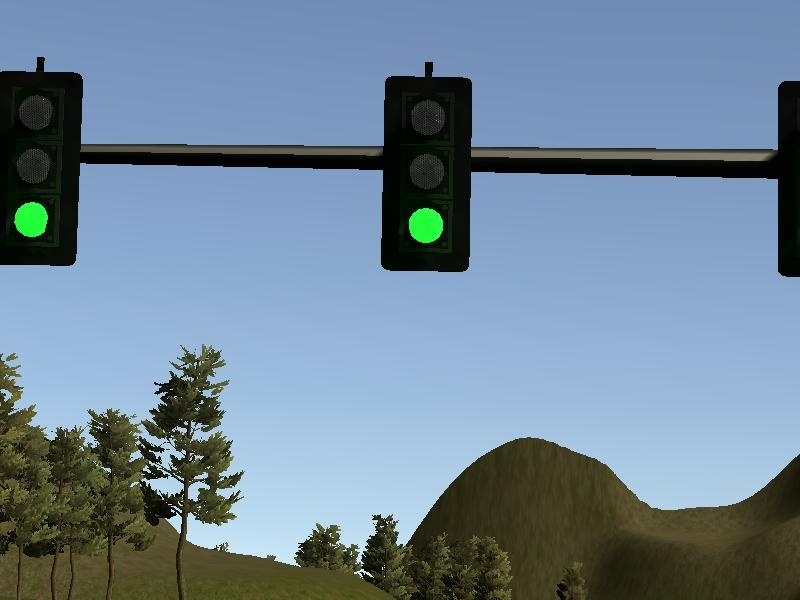Green: (381, 71, 474, 283), (5, 57, 81, 277), (771, 76, 799, 293)
